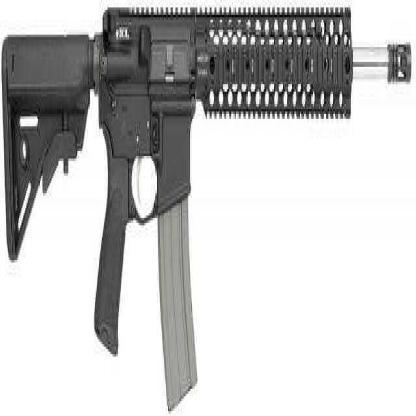Heavy Gun: (1, 2, 416, 362)
